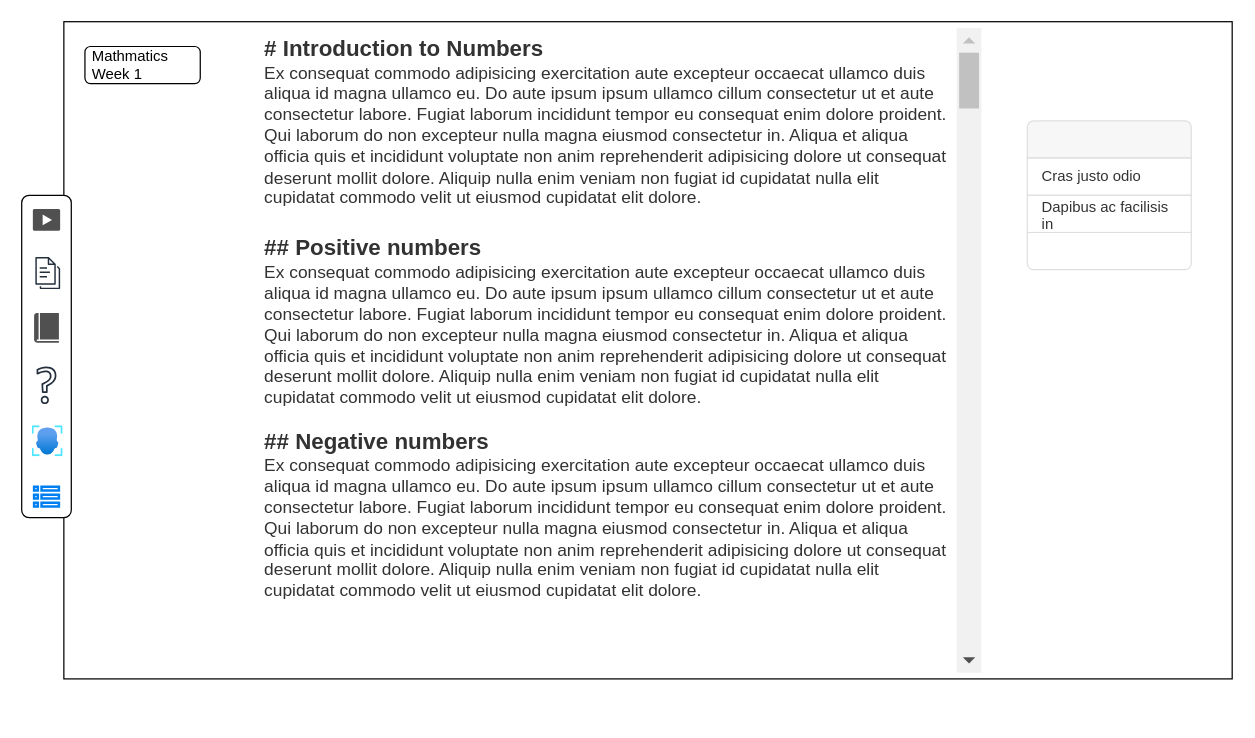
Image size: 1255x738. Some labels were removed from this diagram. Each missing label, with the centre of its shape:
"Featured" belongs at point (1108, 139).
"Vestibulum at eros" belongs at point (1108, 250).
